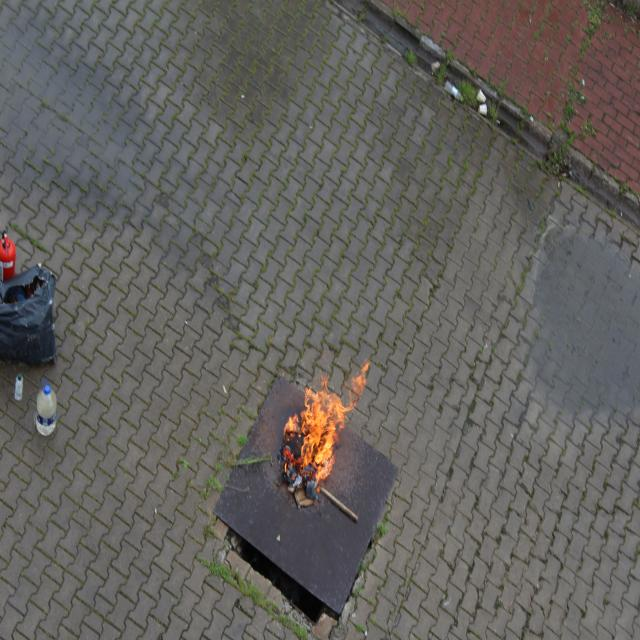fire: (276, 366, 370, 512)
